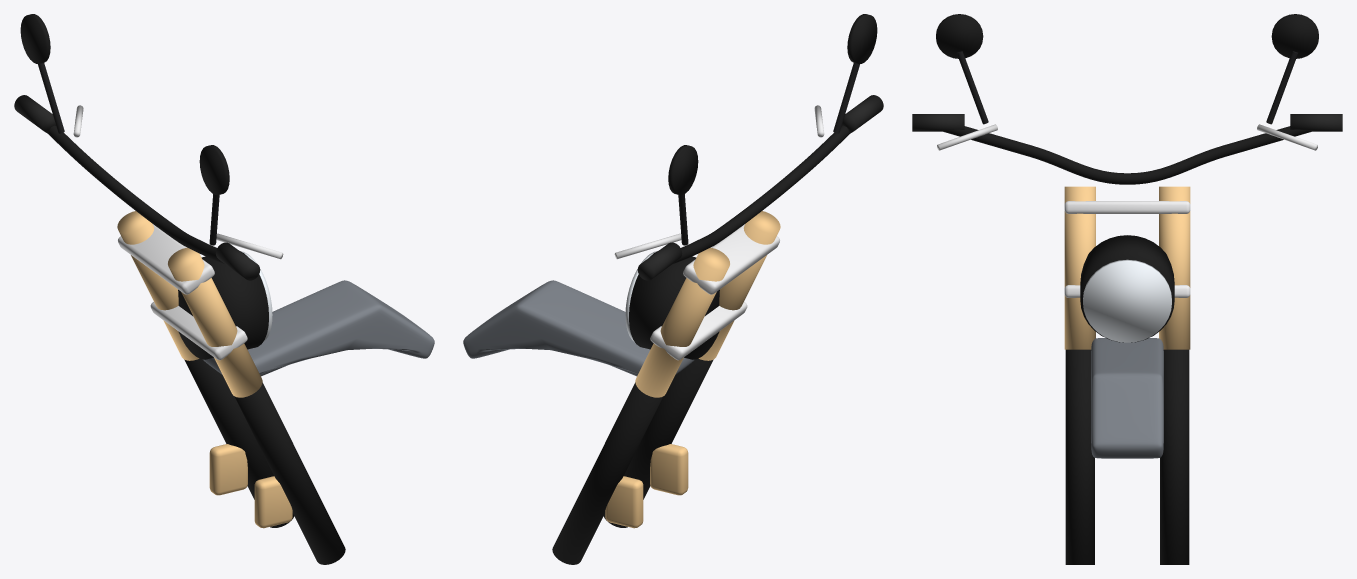
File: NAKED890_Sterzo.glb
The picture shows the model from 3 angles, left to right: view 1: azimuth 30°, elevation 25°; view 2: azimuth 150°, elevation 25°; view 3: azimuth 270°, elevation 25°; orthographic projection. The views are drawn at different scales.
Parts seen in each view (by area): view 1: NAKED890_Sterzo; view 2: NAKED890_Sterzo; view 3: NAKED890_Sterzo.
Boxes of the visible parts, bbox=[...] form: NAKED890_Sterzo: bbox=[14, 14, 434, 564]; NAKED890_Sterzo: bbox=[463, 14, 883, 564]; NAKED890_Sterzo: bbox=[912, 14, 1342, 564].
Size of the model in its own units: 0.6096 by 0.994 by 0.82.
